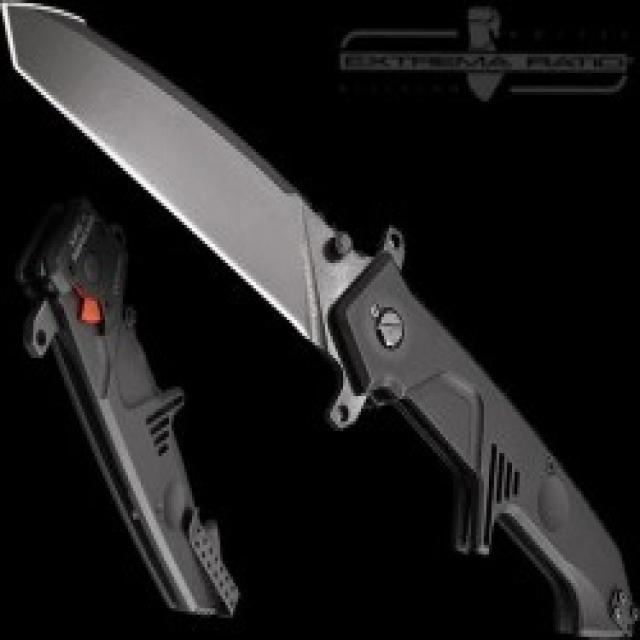knife: (1, 1, 640, 640)
